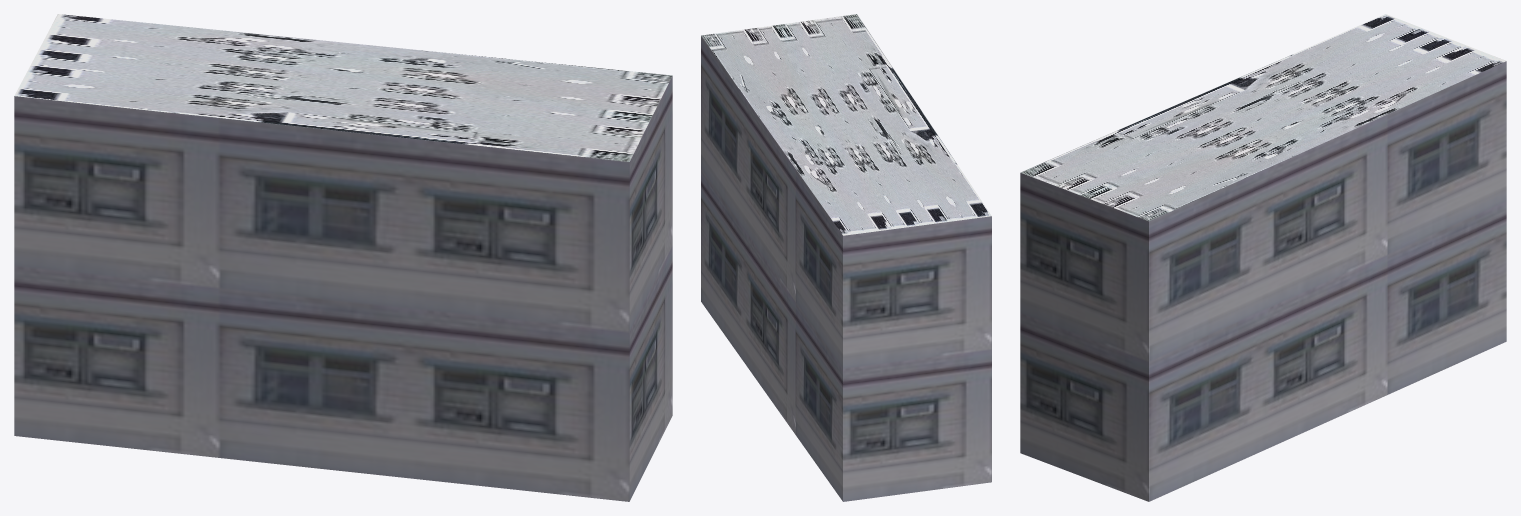
The model's file is ResTex__1687.fbx.
The picture shows the model from 3 angles, left to right: view 1: azimuth 30°, elevation 25°; view 2: azimuth 150°, elevation 25°; view 3: azimuth 270°, elevation 25°; orthographic projection. The views are drawn at different scales.
Visible parts, largest first — view 1: CityEngineMaterial_1_m, CityEngineMaterial_4_m; view 2: CityEngineMaterial_1_m, CityEngineMaterial_4_m; view 3: CityEngineMaterial_1_m, CityEngineMaterial_4_m.
Boxes of the visible parts, x1,y1,x2,y2 form: CityEngineMaterial_1_m: (14,76,672,501); CityEngineMaterial_4_m: (14,14,672,161); CityEngineMaterial_1_m: (701,36,991,501); CityEngineMaterial_4_m: (701,14,991,235); CityEngineMaterial_1_m: (1020,61,1506,501); CityEngineMaterial_4_m: (1020,14,1506,221).
Size of the model in its own units: 9.51 by 6 by 9.43.
Materials: 2 (2 with a texture image).
